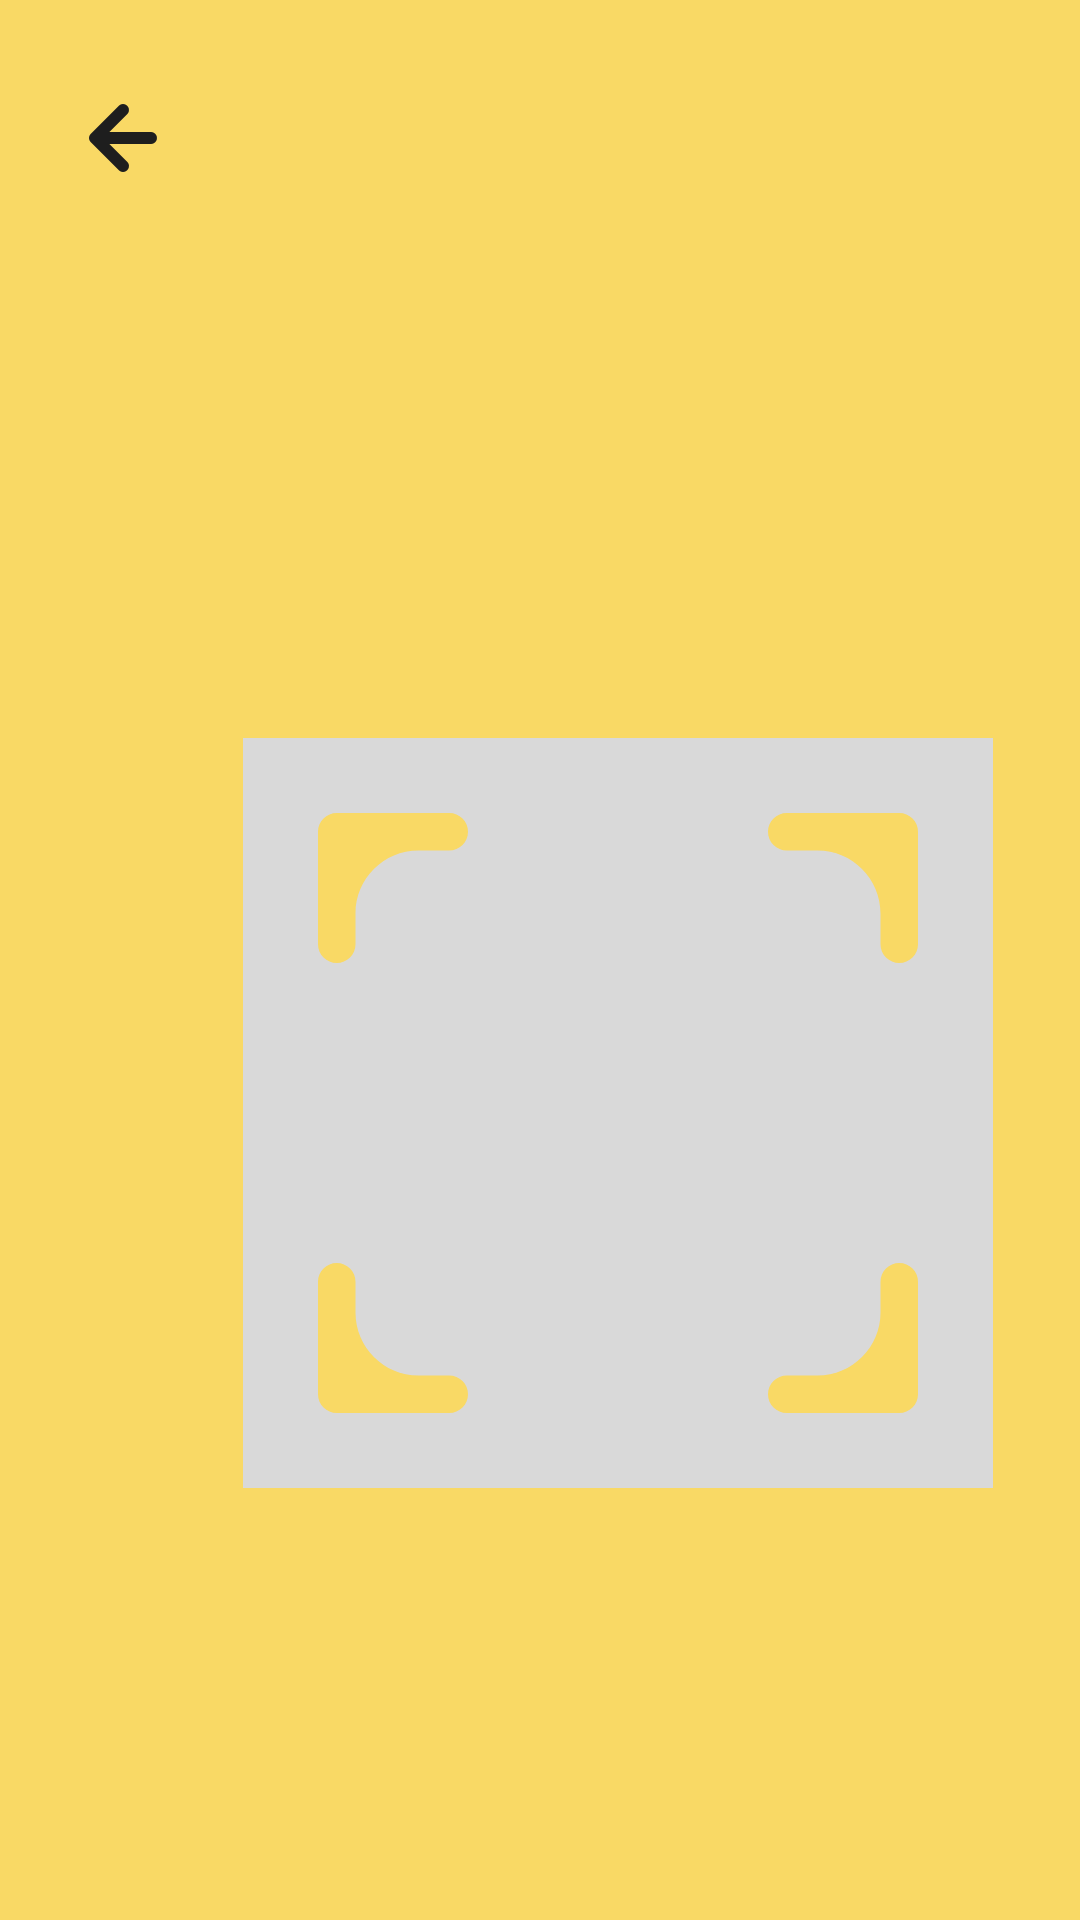

Where icons sit on this 1080 x 1920 app screen, as Rect(x1, y1, x2, y2):
arrow left: Rect(89, 104, 157, 172)
